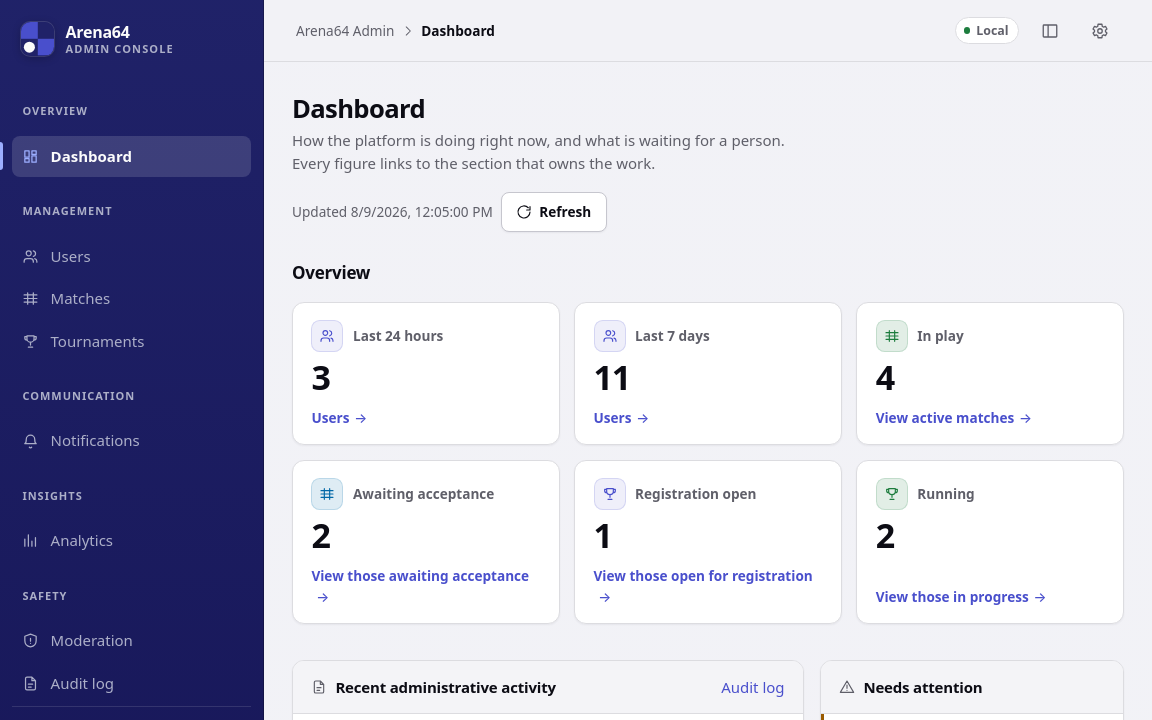
keeps the numbers on screen when a refresh fails
Check: the heading "Overview" is shown, box [292, 260, 370, 286]
What coordinates should you click on to do the following:
click the button "Refresh"
I would click on:
 (554, 212)
Its box is [501, 192, 607, 232].
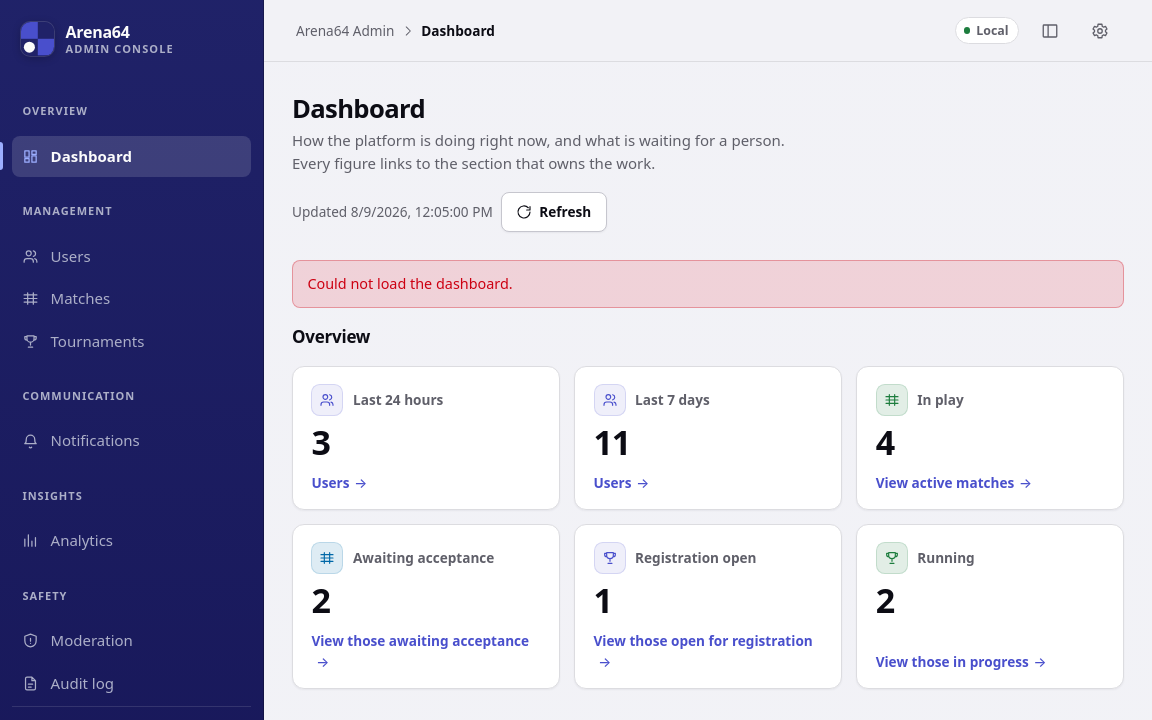
Check: the text "4" is shown, box [876, 419, 894, 465]
Check: the message "Could not load the dashboard." is shown, box [292, 260, 1124, 308]
